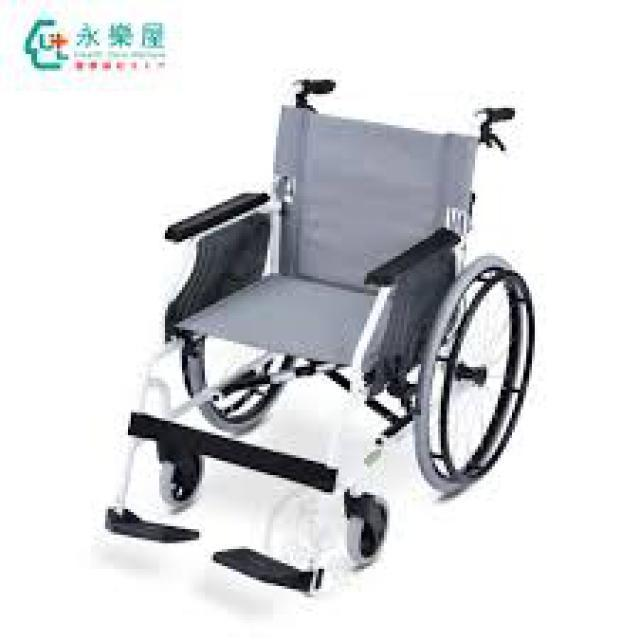wheelchairs: (118, 75, 534, 592)
